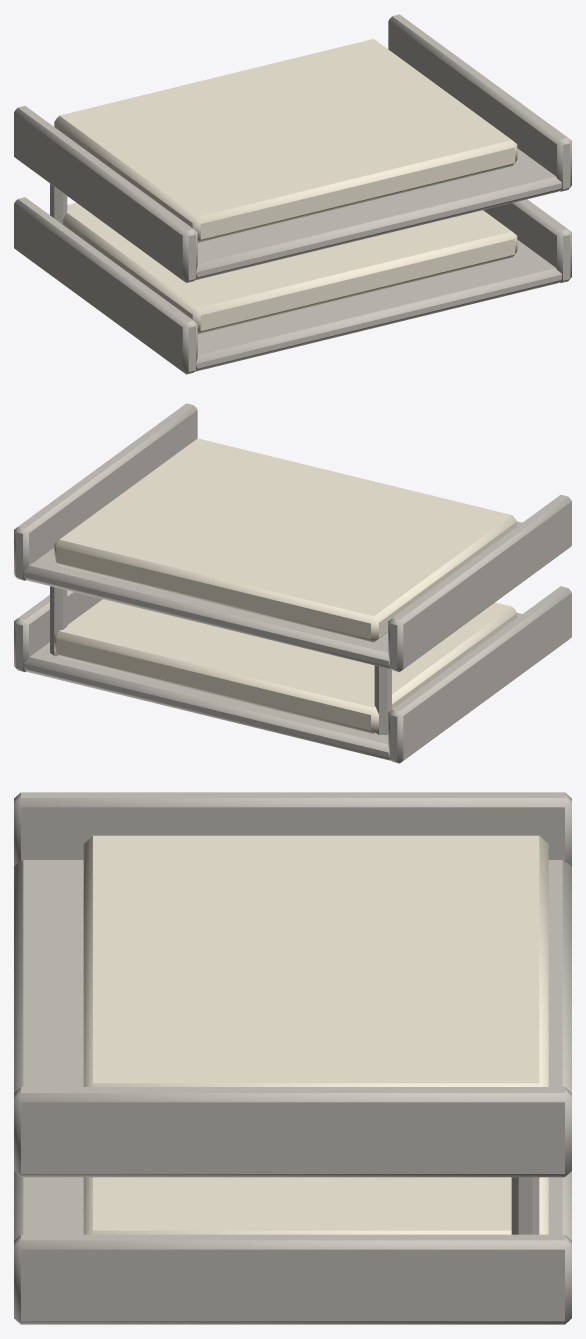
The model's file is in_tray.glb.
The picture shows the model from 3 angles, top to bottom: view 1: azimuth 30°, elevation 25°; view 2: azimuth 150°, elevation 25°; view 3: azimuth 270°, elevation 25°; orthographic projection. The views are drawn at different scales.
Visible parts, largest first — view 1: paper, steel; view 2: paper, steel; view 3: steel, paper.
Boxes of the visible parts, x1,y1,x2,y2 form: paper: [54, 39, 517, 334]; steel: [14, 14, 571, 374]; paper: [54, 438, 517, 733]; steel: [14, 403, 571, 763]; steel: [14, 792, 571, 1324]; paper: [83, 835, 548, 1234].
Bounding box in the file's own units: 0.312 × 0.11 × 0.24.
